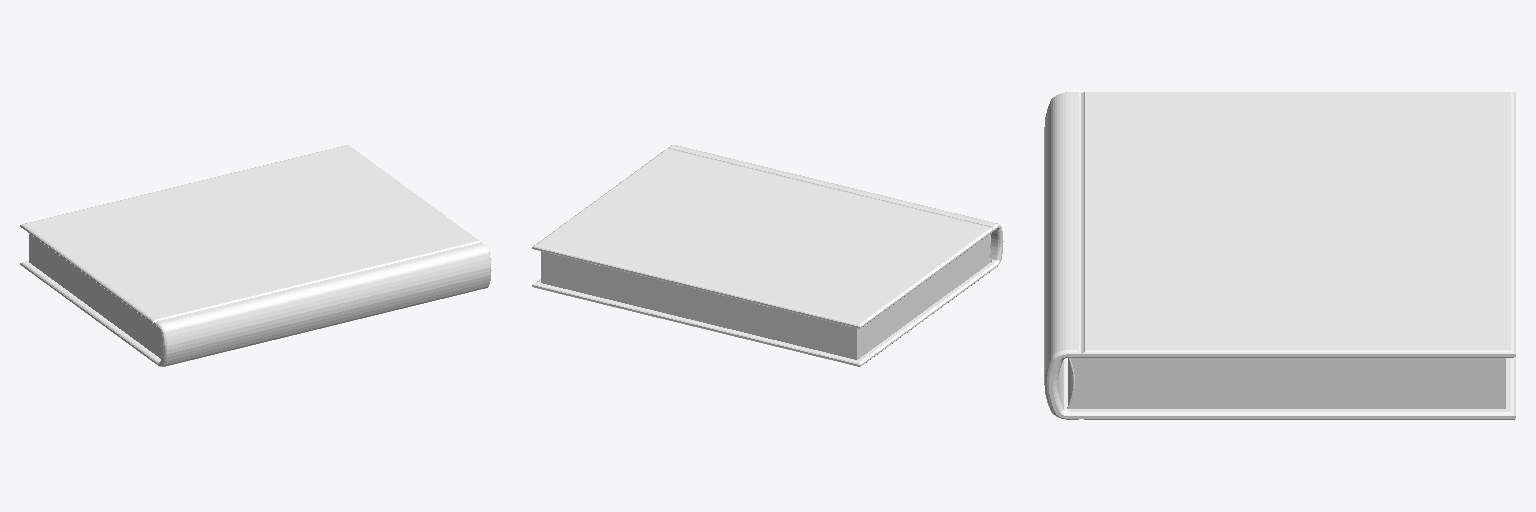
robot.urdf — book:
<?xml version="1.0" ?>
<robot name="book">
  <link name="boxLink">
    <inertial>
      <origin rpy="0 0 0" xyz="0 0 0"/>
       <mass value="1.0"/>
       <inertia ixx="1" ixy="0" ixz="0" iyy="1" iyz="0" izz="1"/>
    </inertial>
    <visual>
      <origin rpy="0 0 0" xyz="0 0 0"/>
      <geometry>
        <mesh filename="book.obj" scale="1 1 1"/>
      </geometry>
       <material name="white">
        <color rgba="1 1 1 1"/>
      </material>
    </visual>
    <collision>
      <origin rpy="0 0 0" xyz="0 0 0"/>
      <geometry>
        <!-- <mesh filename="box.stl" scale="1 1 1"/> -->
        <box size="0.4 0.4 0.05"/>
      </geometry>
    </collision>
  </link>
</robot>

--- Render facts (derived) ---
3 views of the same robot in one strip: view 1: azimuth 30°, elevation 25°; view 2: azimuth 150°, elevation 25°; view 3: azimuth 270°, elevation 25° (orthographic).
Model book with 1 links and 0 joints (none), rooted at boxLink, posed all joints at 0.
Visible links, largest first — view 1: boxLink; view 2: boxLink; view 3: boxLink.
Boxes of the visible links, box(x1,y1,x2,y2) form: boxLink: box(20, 145, 491, 366); boxLink: box(532, 145, 1003, 366); boxLink: box(1044, 92, 1515, 419).
Size in the robot's own frame: 0.393 by 0.2996 by 0.049 metres.
1 mesh visuals loaded from 1 distinct referenced files (1 OBJ).